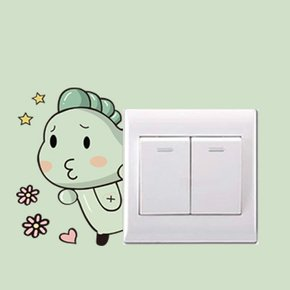switch: (134, 132, 194, 218), (187, 134, 245, 218)
